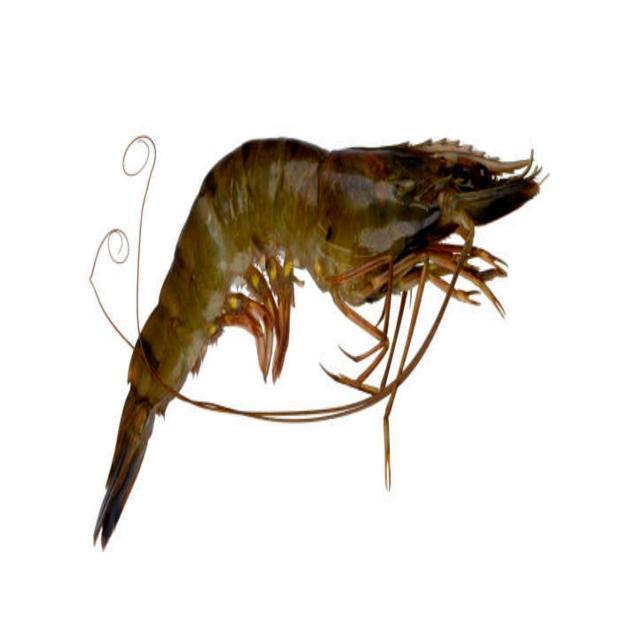shrimp: (94, 139, 541, 545)
